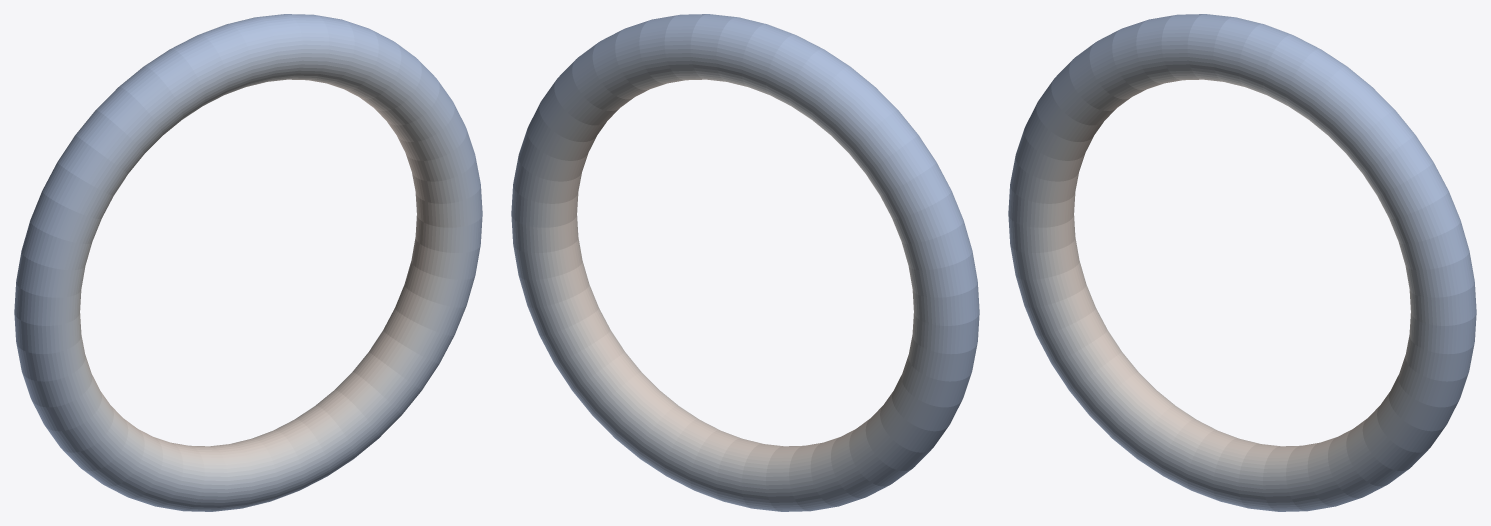
3 views of the same model, side by side, from view 1: azimuth 30°, elevation 25°; view 2: azimuth 150°, elevation 25°; view 3: azimuth 330°, elevation 25° (orthographic).
Parts seen in each view (by area): view 1: world; view 2: world; view 3: world.
Boxes of the visible parts, box(x1,y1,x2,y2) form: world: box(14, 14, 482, 511); world: box(511, 14, 979, 511); world: box(1008, 14, 1476, 511).
Bounding box in the file's own units: 31.2 × 31.14 × 3.86.
